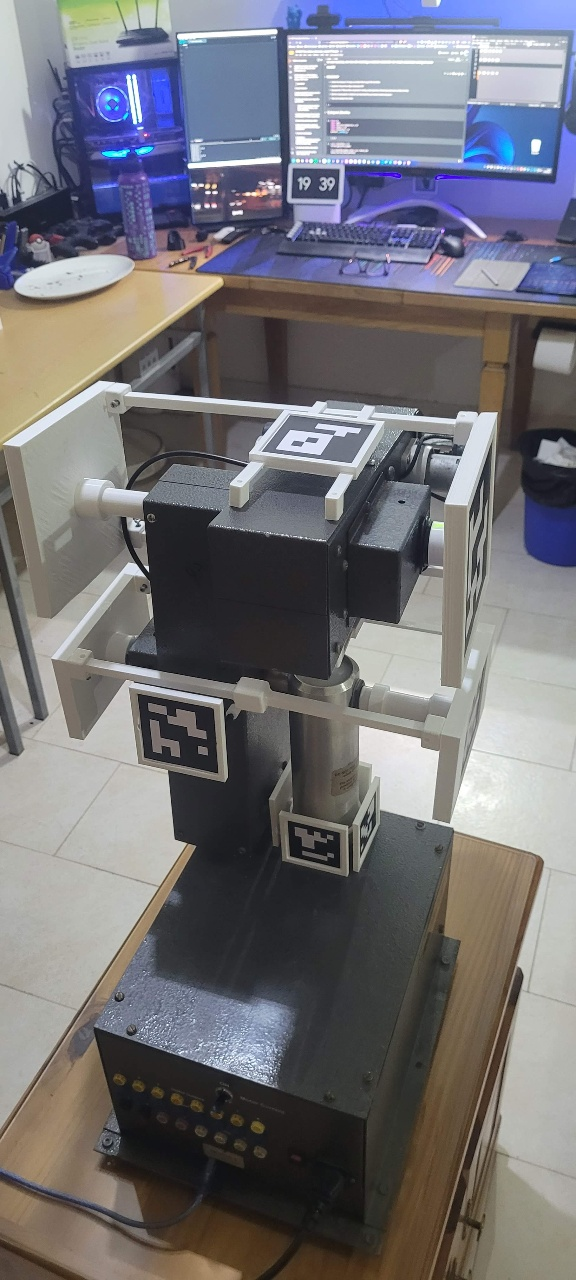Robot: (103, 269, 533, 1077)
